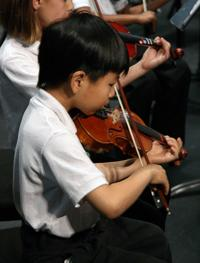person: (13, 12, 184, 262)
